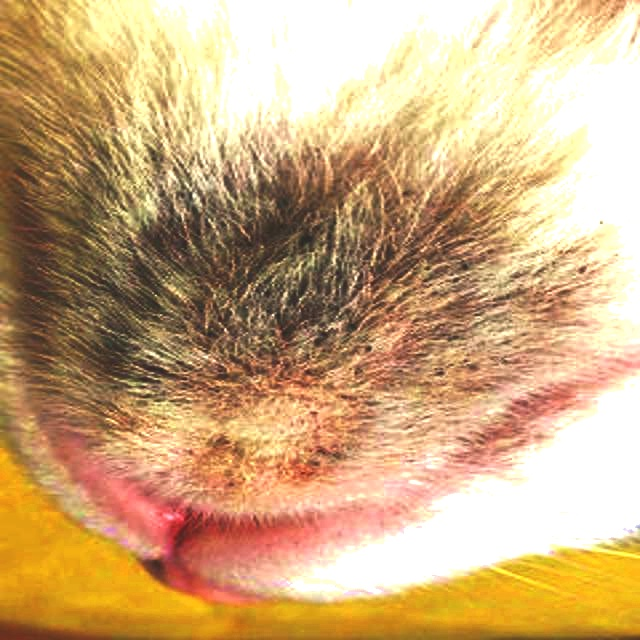acne: (122, 194, 474, 422)
